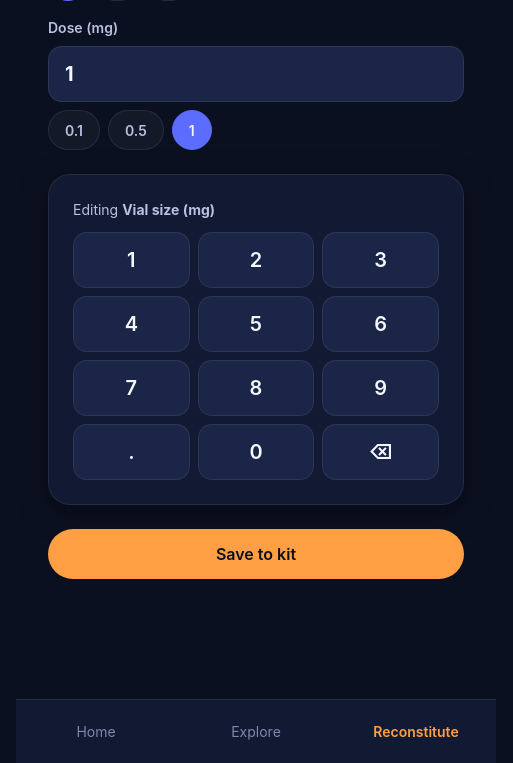
reconstitution wedge — end-to-end (offline persistence) › removes a vial via REMOVE_VIAL
(page scrolled)
Click the button "Save to kit" at (256, 554), box top-left (48, 529), bottom-right (464, 579)
(page scrolled)
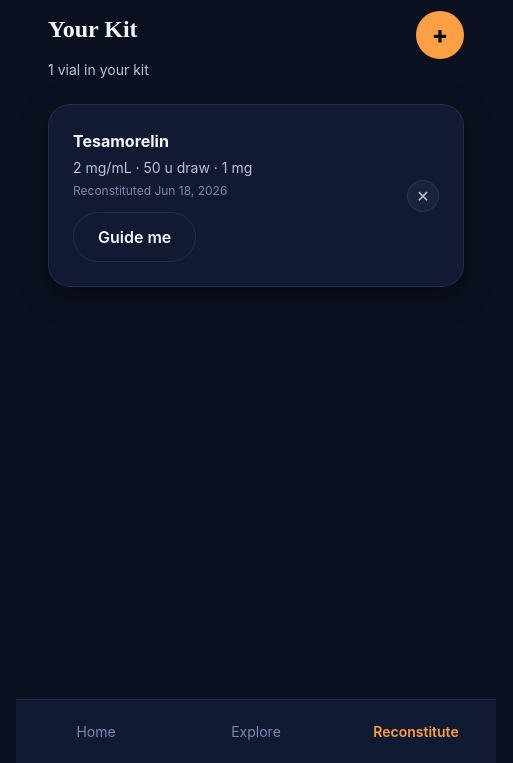
Check: the text "1 vial in your kit" is shown, box top-left (48, 59), bottom-right (149, 80)
Click the button named "Remove Tesamorelin vial" at (423, 196), box top-left (407, 180), bottom-right (439, 212)
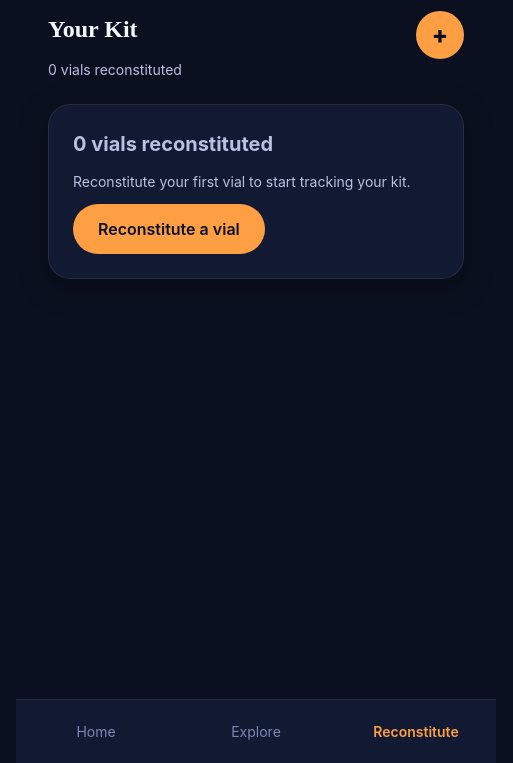
Check: the 1st text "0 vials reconstituted" is shown, box top-left (48, 59), bottom-right (182, 80)
Check: the button "Reconstitute a vial" is shown, box top-left (73, 204), bottom-right (265, 254)
